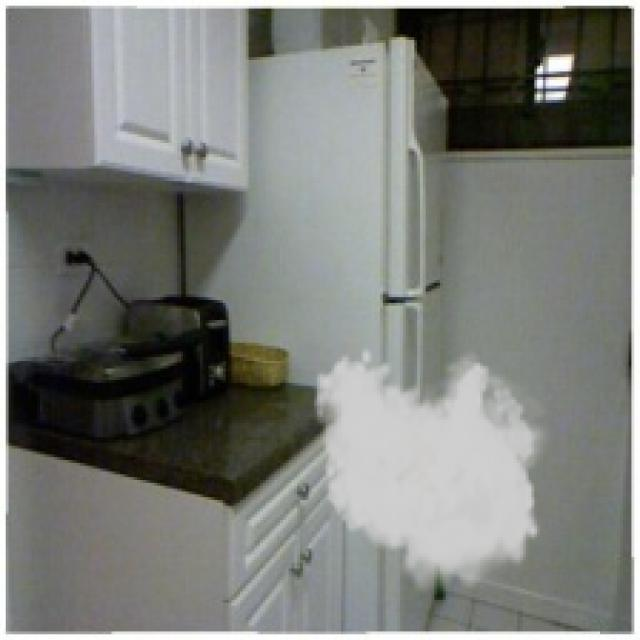Smoke: (312, 346, 554, 600)
